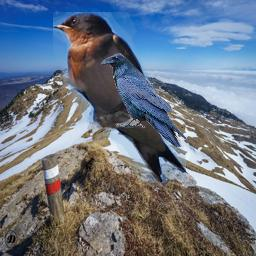Crow: (100, 53, 187, 147)
Swallow: (53, 12, 186, 183)
